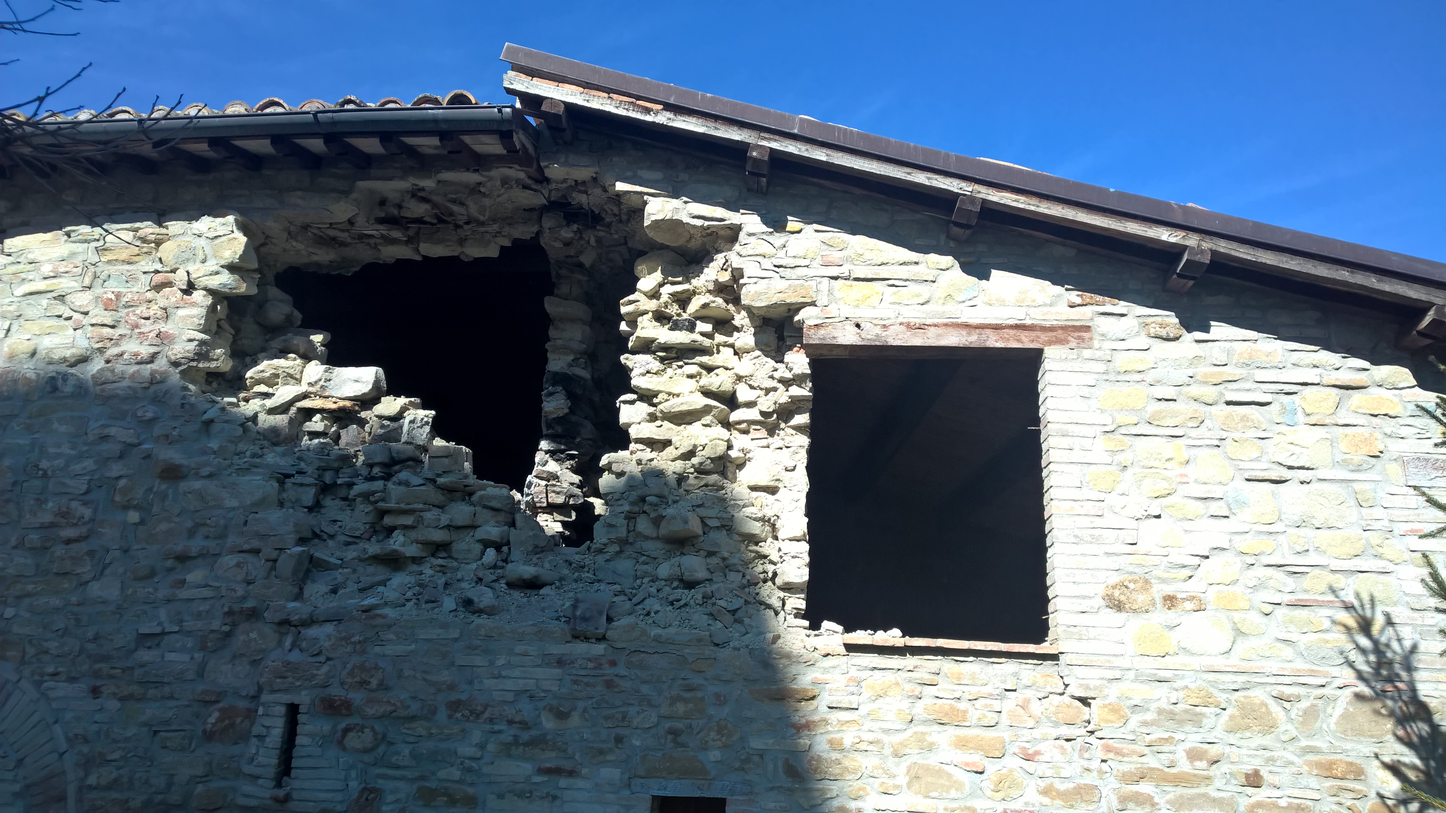Crack: (1024, 634, 1148, 777)
Other damage/mechanism: (174, 156, 780, 642)
Spalling: (208, 170, 781, 622)
